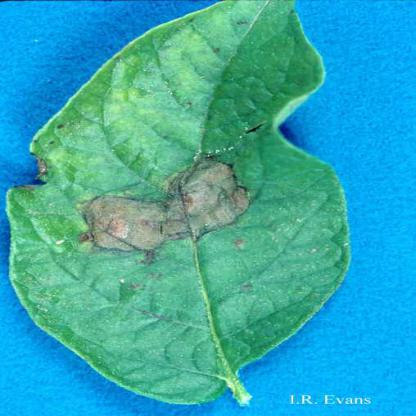potato leaf late blight: (3, 1, 354, 406)
